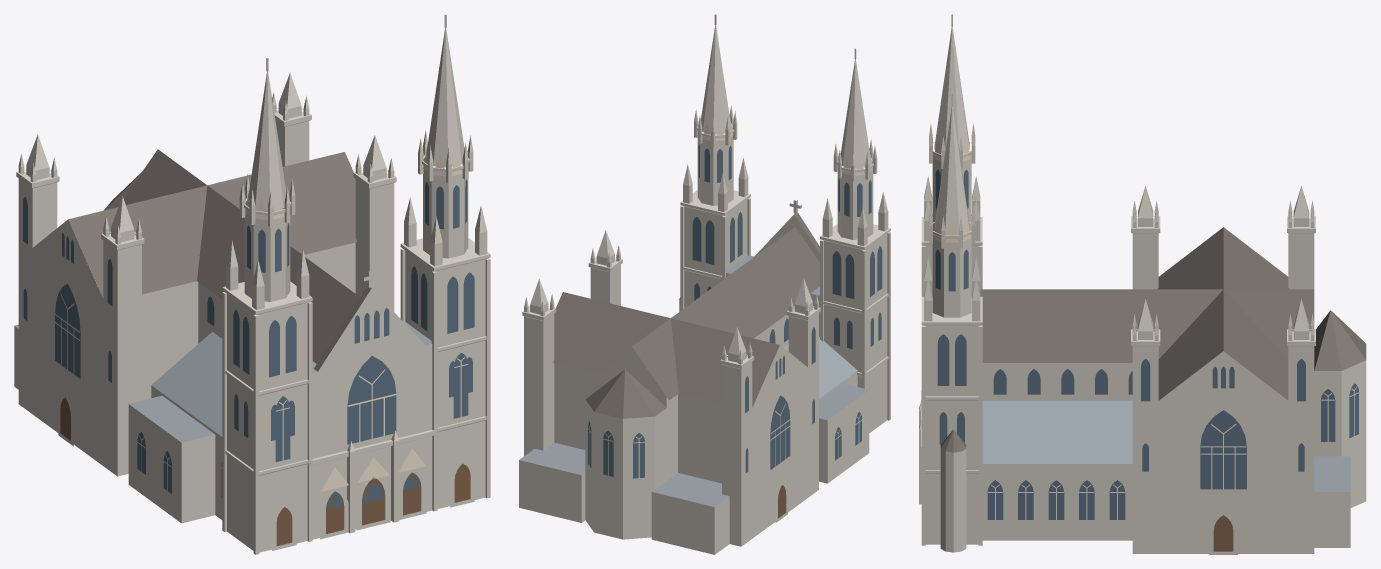
The model's file is pit-st-paul-cathedral.glb.
The picture shows the model from 3 angles, left to right: view 1: azimuth 30°, elevation 25°; view 2: azimuth 150°, elevation 25°; view 3: azimuth 270°, elevation 25°; orthographic projection. The views are drawn at different scales.
Visible parts, largest first — view 1: Cathedral of Saint Paul; view 2: Cathedral of Saint Paul; view 3: Cathedral of Saint Paul.
Part boxes in pixels (bbox=[...]): Cathedral of Saint Paul: bbox=[14, 14, 490, 554]; Cathedral of Saint Paul: bbox=[519, 14, 890, 554]; Cathedral of Saint Paul: bbox=[919, 14, 1366, 554].
Bounding box in the file's own units: 46 × 74.6 × 68.98.
